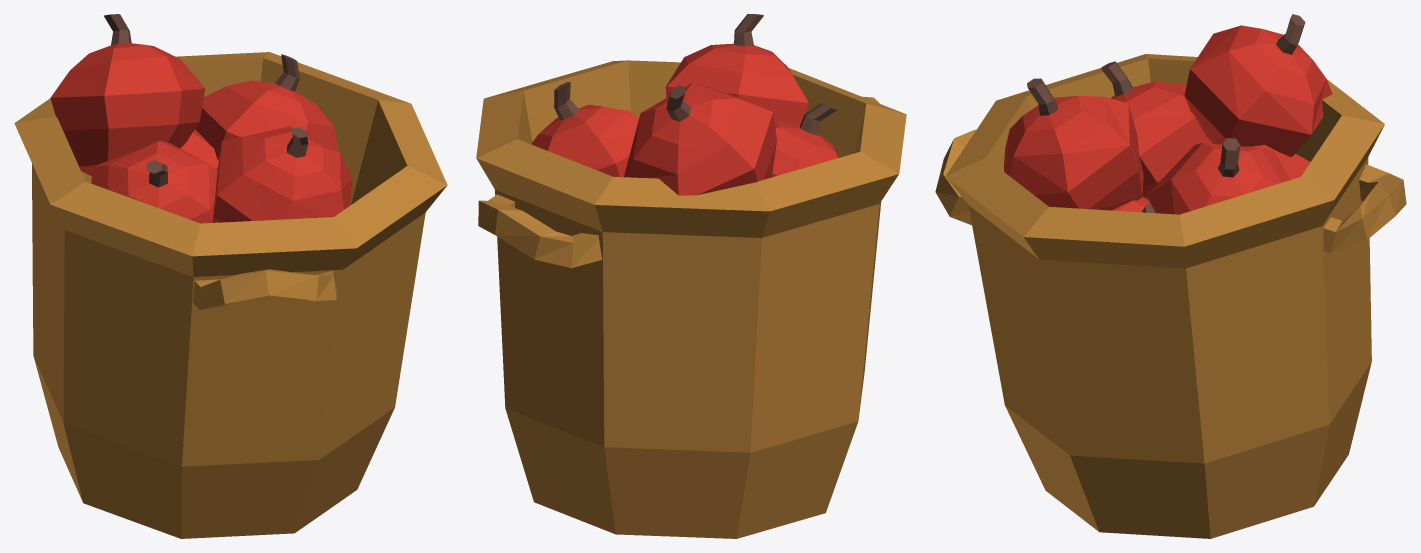
The picture shows the model from 3 angles, left to right: view 1: azimuth 30°, elevation 25°; view 2: azimuth 150°, elevation 25°; view 3: azimuth 270°, elevation 25°; orthographic projection. The views are drawn at different scales.
Parts seen in each view (by area): view 1: node_MeshObject1992563712-PolyPaper16; view 2: node_MeshObject1992563712-PolyPaper16; view 3: node_MeshObject1992563712-PolyPaper16.
Boxes of the visible parts, left/top/right/bottom form: node_MeshObject1992563712-PolyPaper16: left=14, top=14, right=447, bottom=538; node_MeshObject1992563712-PolyPaper16: left=476, top=14, right=906, bottom=538; node_MeshObject1992563712-PolyPaper16: left=935, top=14, right=1406, bottom=538.
Bounding box in the file's own units: 0.4807 × 0.5361 × 0.513.
